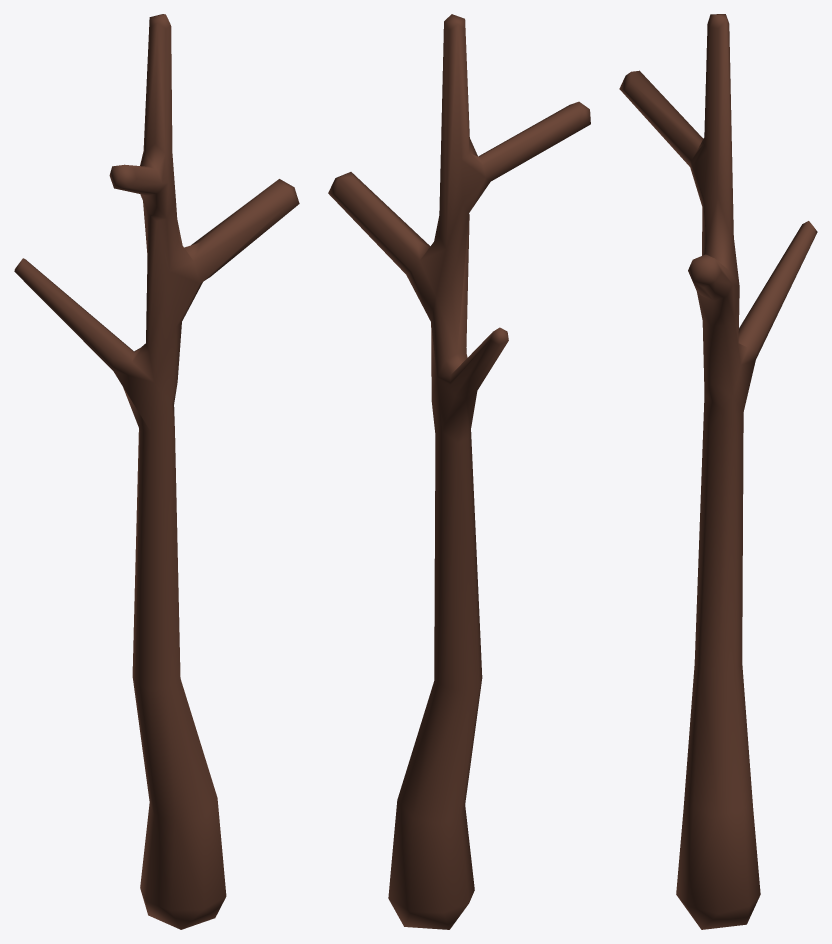
The model's file is Tree4.fbx.
The picture shows the model from 3 angles, left to right: view 1: azimuth 30°, elevation 25°; view 2: azimuth 150°, elevation 25°; view 3: azimuth 270°, elevation 25°; orthographic projection.
Visible parts, largest first — view 1: Tree4; view 2: Tree4; view 3: Tree4.
Boxes of the visible parts, x1,y1,x2,y2 form: Tree4: (14, 14, 299, 929); Tree4: (328, 14, 590, 929); Tree4: (619, 14, 817, 929).
Bounding box in the file's own units: 340 × 1306 × 261.
